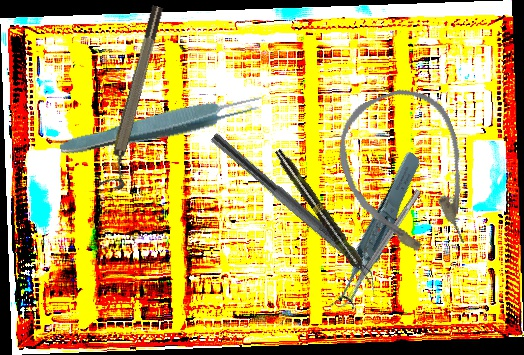Cannula: (323, 76, 493, 274)
Chopper: (199, 132, 392, 299)
Fixation Ring: (97, 4, 175, 191), (336, 185, 429, 310)
Handpiece: (271, 146, 377, 288)
Tissue Forceps: (298, 149, 450, 315), (57, 88, 267, 164)
